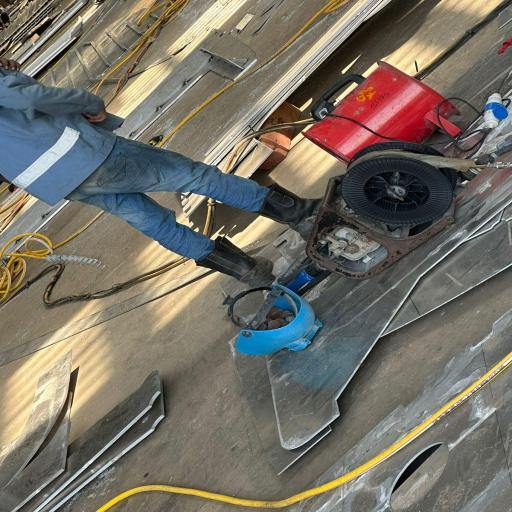safety_shoe: (201, 234, 278, 290), (260, 184, 326, 232)
